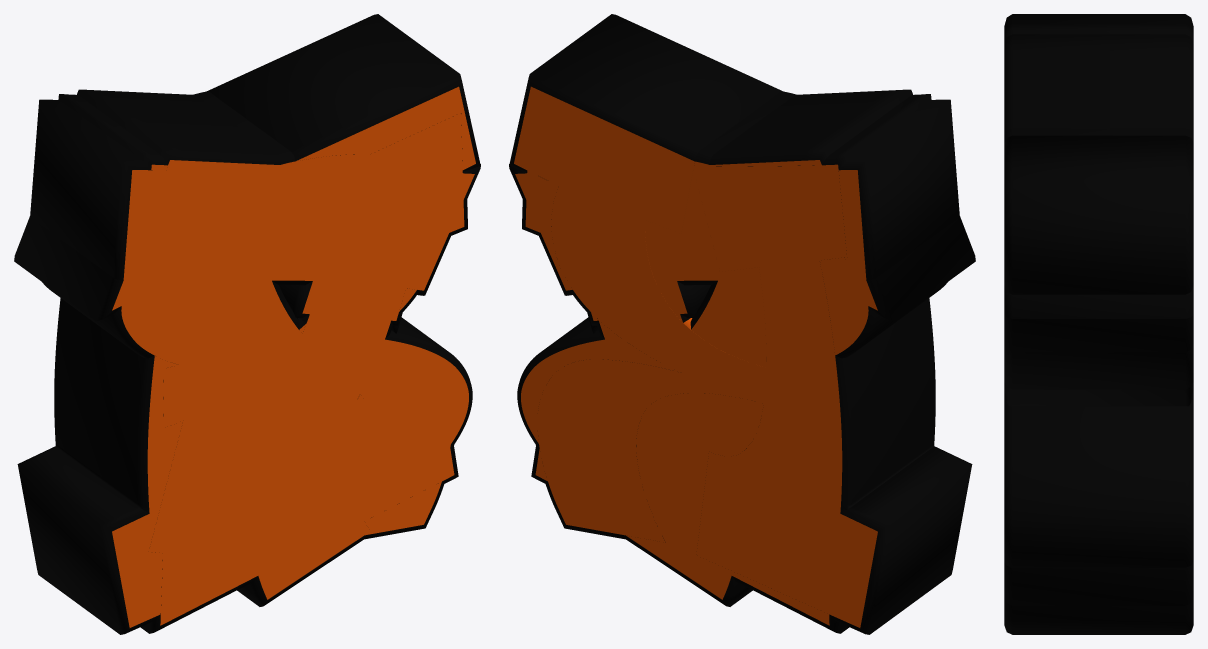
The model's file is SkyeLetters.fbx.
3 views of the same model, side by side, from view 1: azimuth 30°, elevation 25°; view 2: azimuth 150°, elevation 25°; view 3: azimuth 270°, elevation 25° (orthographic). The views are drawn at different scales.
Parts seen in each view (by area): view 1: CollectLettersS, CollectLettersE, CollectLettersK, CollectLettersY; view 2: CollectLettersK, CollectLettersY, CollectLettersS, CollectLettersE; view 3: CollectLettersK, CollectLettersE, CollectLettersS, CollectLettersY.
Part boxes in pixels (box(x1,y1,x2,y2)): CollectLettersS: box(42, 91, 472, 555); CollectLettersE: box(14, 89, 480, 633); CollectLettersK: box(17, 14, 480, 634); CollectLettersY: box(30, 99, 467, 606); CollectLettersK: box(509, 14, 972, 634); CollectLettersY: box(522, 99, 959, 606); CollectLettersS: box(517, 91, 947, 548); CollectLettersE: box(509, 89, 975, 633); CollectLettersK: box(1004, 23, 1193, 634); CollectLettersE: box(1004, 34, 1193, 605); CollectLettersS: box(1004, 128, 1193, 567); CollectLettersY: box(1004, 14, 1193, 400).
Size of the model in its own units: 114 by 137 by 46.01.
